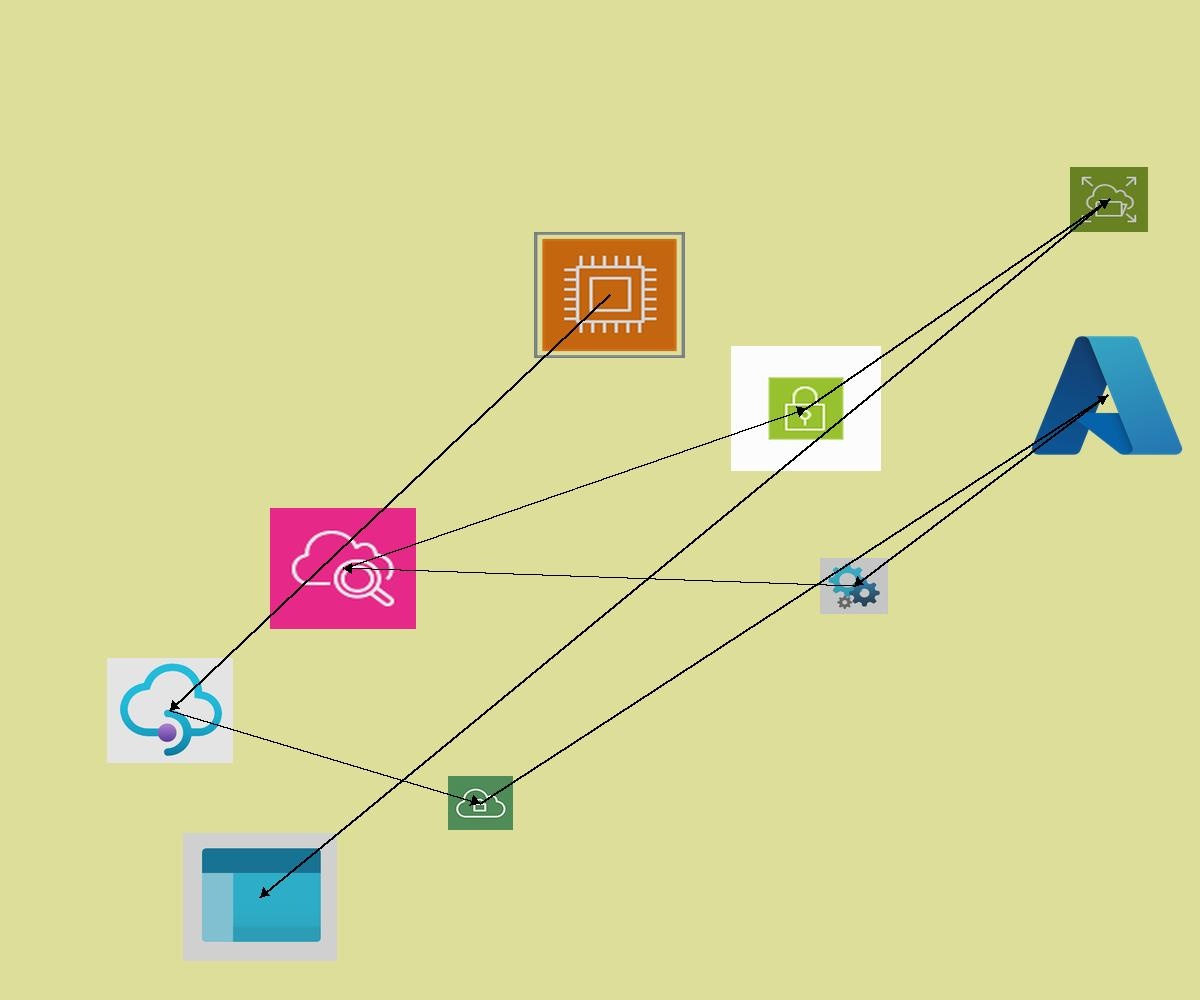AWS-Category_Compute: (534, 232, 685, 358)
AWS-CloudWatch: (270, 508, 416, 629)
AWS-EFS: (1070, 167, 1148, 232)
AWS-Private_vpc: (448, 776, 513, 830)
AWS-Public-subnet: (731, 346, 881, 471)
Azure_api: (820, 558, 888, 614)
Azure_api_gateway: (107, 658, 233, 763)
Azure_management-portal: (183, 833, 337, 961)
Azure_services: (1025, 327, 1189, 464)
